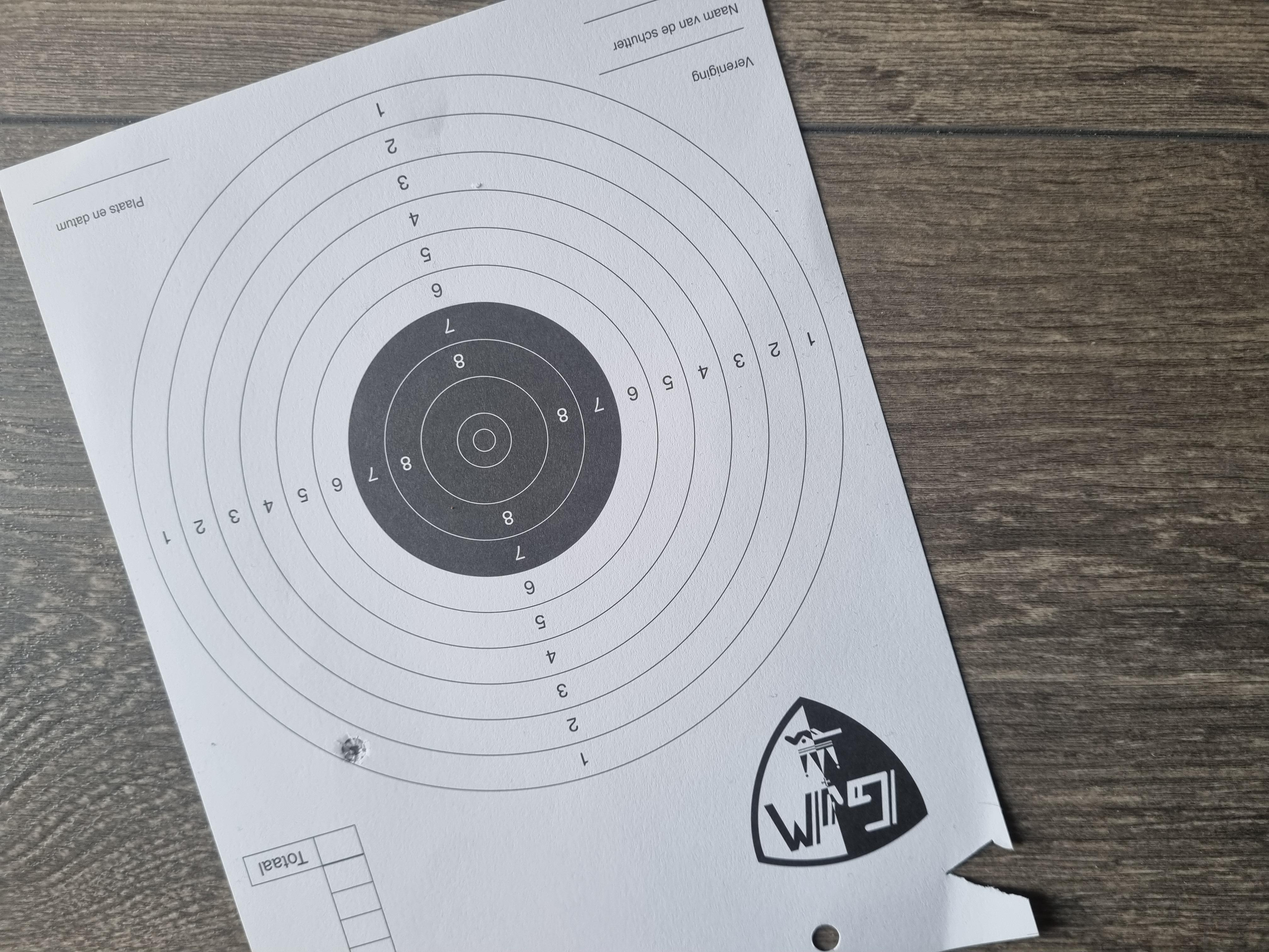hole: (244, 252, 300, 280)
